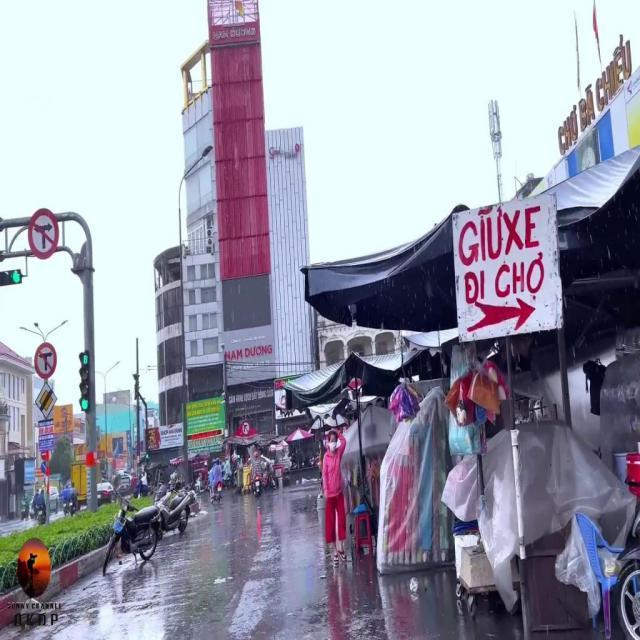123b-cam-re-phai: (242, 421, 250, 435)
137-cam-re-trai-va-re-phai: (29, 208, 60, 260), (34, 341, 58, 379)
